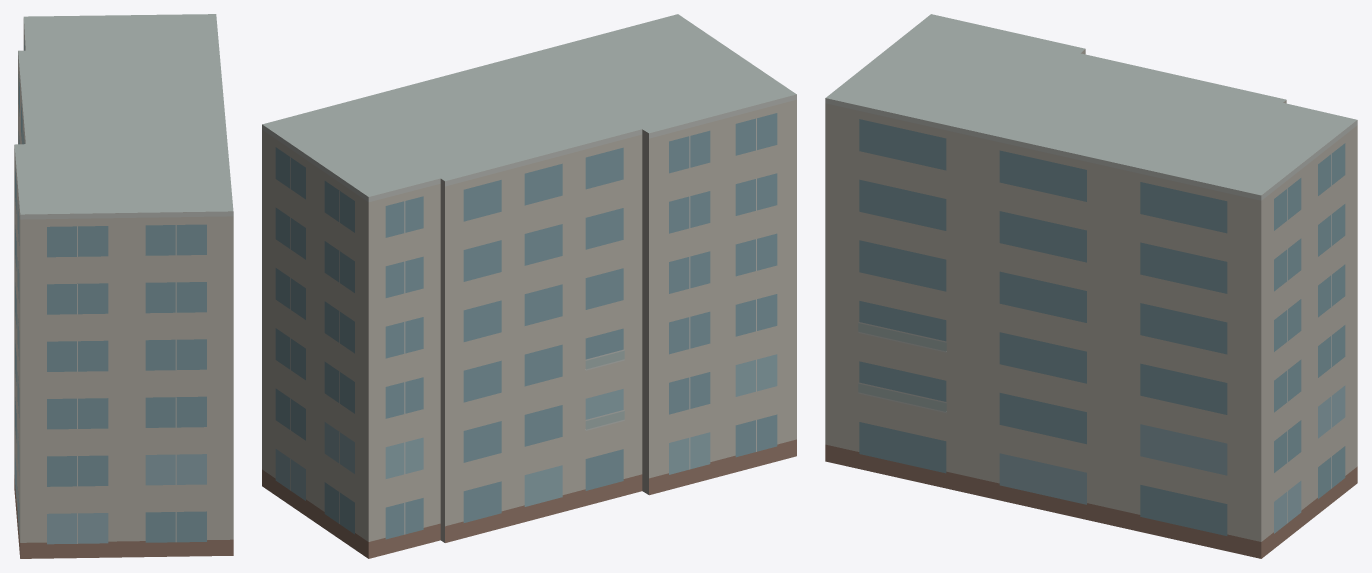
Rendered from survey-upis-32954016.glb.
3 renders of one model, left to right at view 1: azimuth 30°, elevation 25°; view 2: azimuth 150°, elevation 25°; view 3: azimuth 270°, elevation 25°, orthographic. The views are drawn at different scales.
Parts seen in each view (by area): view 1: survey-upis-32954016.tmp; view 2: survey-upis-32954016.tmp; view 3: survey-upis-32954016.tmp.
Boxes of the visible parts, x1,y1,x2,y2 form: survey-upis-32954016.tmp: (14,14,233,558); survey-upis-32954016.tmp: (262,14,796,558); survey-upis-32954016.tmp: (825,14,1357,558).
Bounding box in the file's own units: 18 × 16.8 × 22.3.
